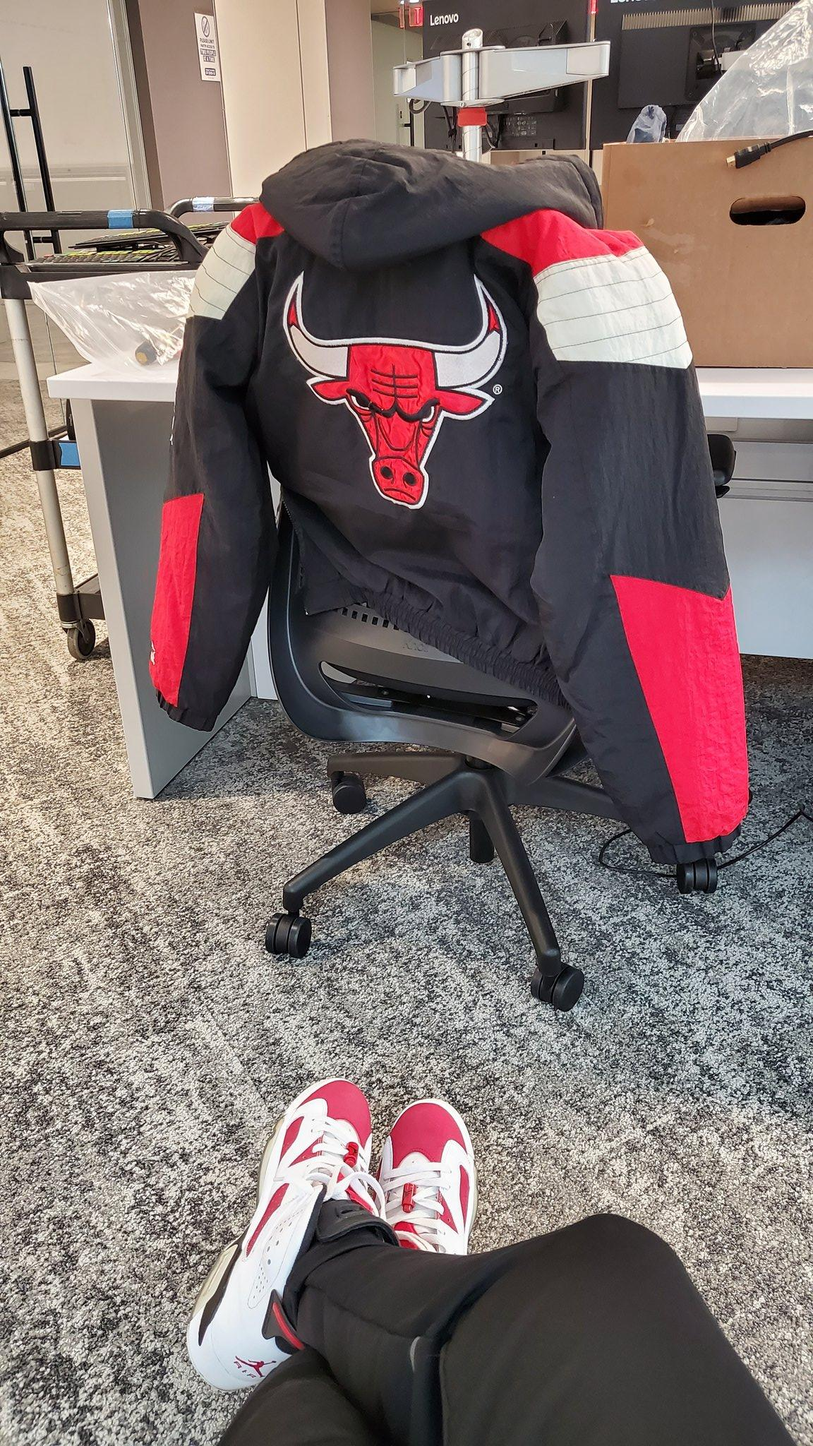sneaker: (166, 1059, 389, 1423), (379, 1080, 501, 1281)
